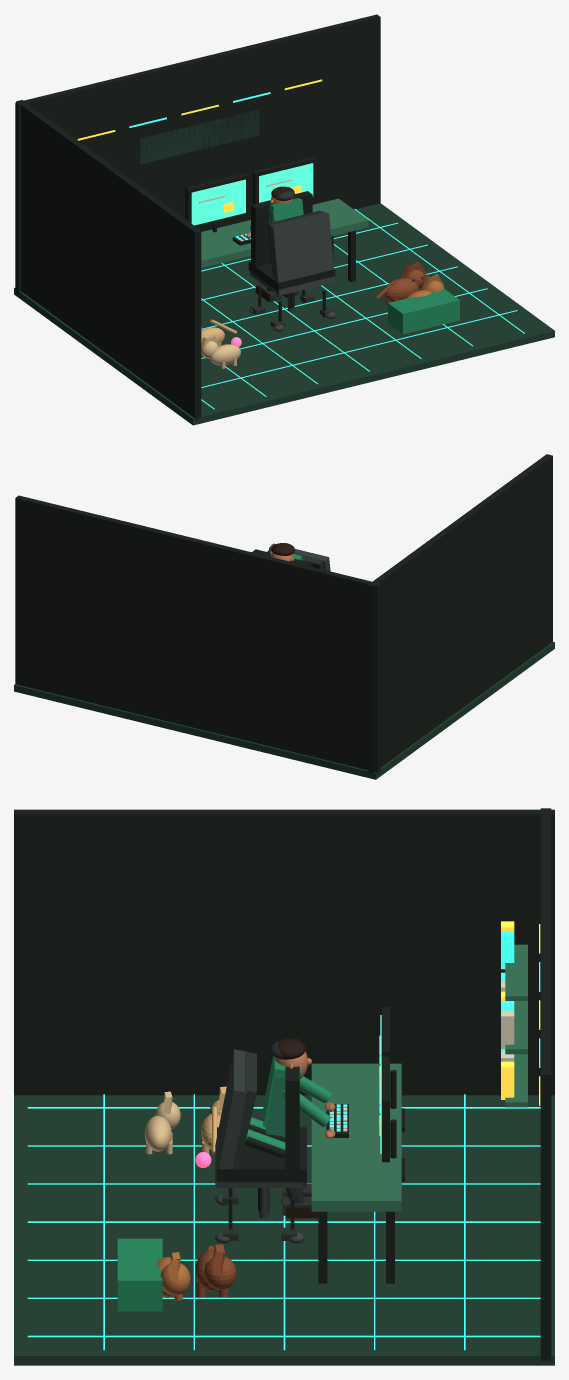
The model's file is cyberpunk-room.glb.
3 views of the same model, one above another, from view 1: azimuth 30°, elevation 25°; view 2: azimuth 150°, elevation 25°; view 3: azimuth 270°, elevation 25° (orthographic). The views are drawn at different scales.
Parts seen in each view (by area): view 1: Back wall, Floor, Left wall, Refined chair back, panel, Desk, Pet tunnel, Screen, Chair back, Screen.001, Monitor, Chair seat (+4 smaller); view 2: Back wall, Left wall, Floor; view 3: Left wall, Floor, Desk, Back wall, Pet tunnel, Chair seat, Refined chair back, Chair back, floor grid.006, Ergo chair back, Shelf.002, floor grid.003 (+10 smaller).
Boxes of the visible parts, left/top/right/bottom form: Back wall: left=15, top=14, right=380, bottom=294; Floor: left=14, top=203, right=554, bottom=425; Left wall: left=16, top=100, right=201, bottom=421; Refined chair back: left=269, top=212, right=335, bottom=295; panel: left=140, top=109, right=259, bottom=164; Desk: left=201, top=198, right=368, bottom=267; Pet tunnel: left=388, top=289, right=459, bottom=334; Screen: left=191, top=179, right=245, bottom=225; Chair back: left=251, top=191, right=312, bottom=267; Screen.001: left=259, top=163, right=313, bottom=202; Monitor: left=185, top=173, right=248, bottom=227; Chair seat: left=248, top=261, right=335, bottom=291; Back wall: left=15, top=495, right=380, bottom=775; Left wall: left=367, top=454, right=552, bottom=775; Floor: left=14, top=642, right=554, bottom=779; Left wall: left=14, top=809, right=554, bottom=1095; Floor: left=14, top=1095, right=554, bottom=1365; Desk: left=311, top=1063, right=401, bottom=1211; Back wall: left=540, top=808, right=551, bottom=1360; Pet tunnel: left=117, top=1238, right=162, bottom=1311; Chair seat: left=217, top=1127, right=306, bottom=1182; Refined chair back: left=215, top=1049, right=247, bottom=1188; Chair back: left=285, top=1039, right=299, bottom=1169; floor grid.006: left=27, top=1335, right=540, bottom=1337; Ergo chair back: left=233, top=1051, right=256, bottom=1167; Shelf.002: left=505, top=944, right=527, bottom=1000; floor grid.003: left=27, top=1221, right=540, bottom=1222.
Size of the model in its own units: 14 by 7.35 by 12.
